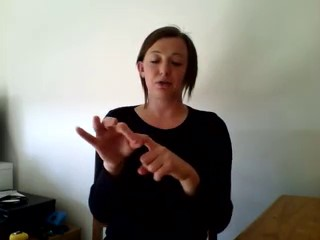Q: (70, 112, 201, 191)
